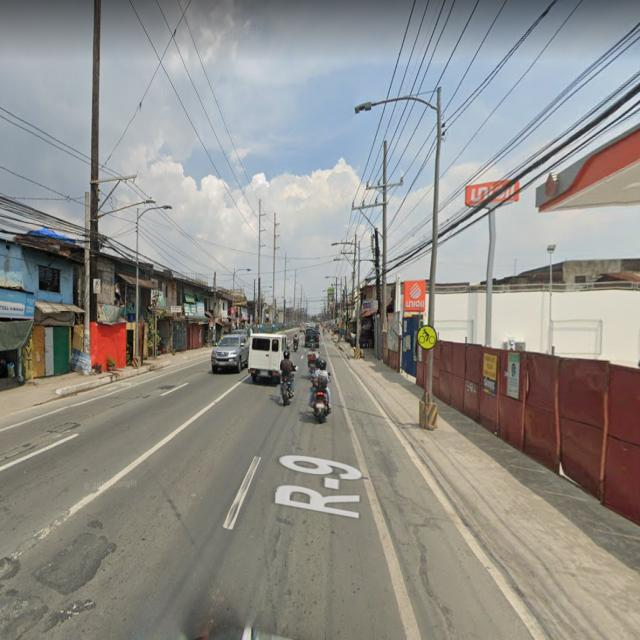bike lane: (414, 321, 441, 356)
